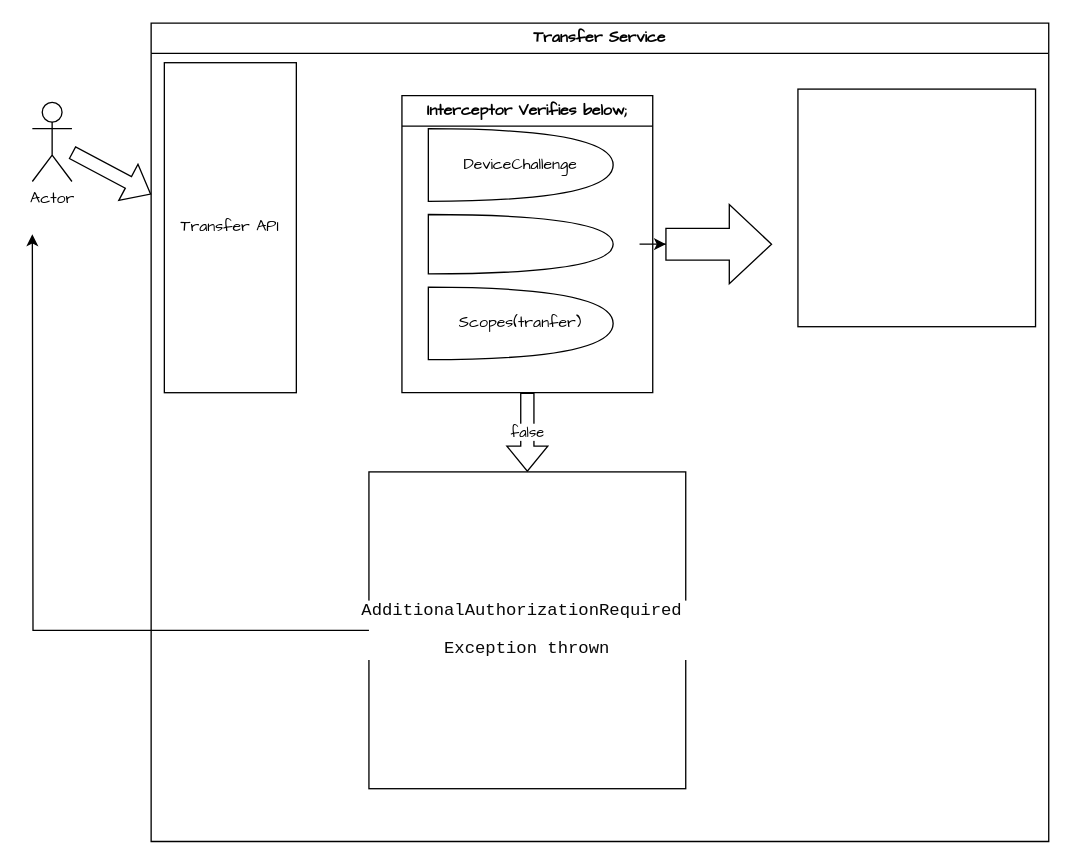
Image size: 1072x865. Some labels were removed from this diagram. The shapes that lost their labels are listed below. From the top down, each one's centre as x and y in pixels, then its label:
At point 916,207: "Proceeds further".
At point 520,243: "Pin".
At point 718,243: "true".
